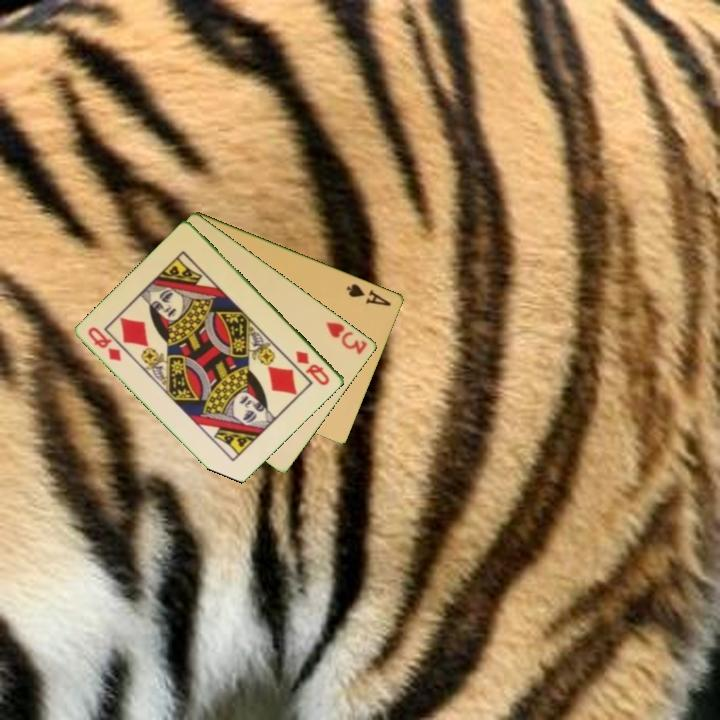3h: (322, 318, 370, 357)
As: (343, 280, 394, 309)
Qd: (292, 347, 333, 389), (85, 323, 125, 364)
